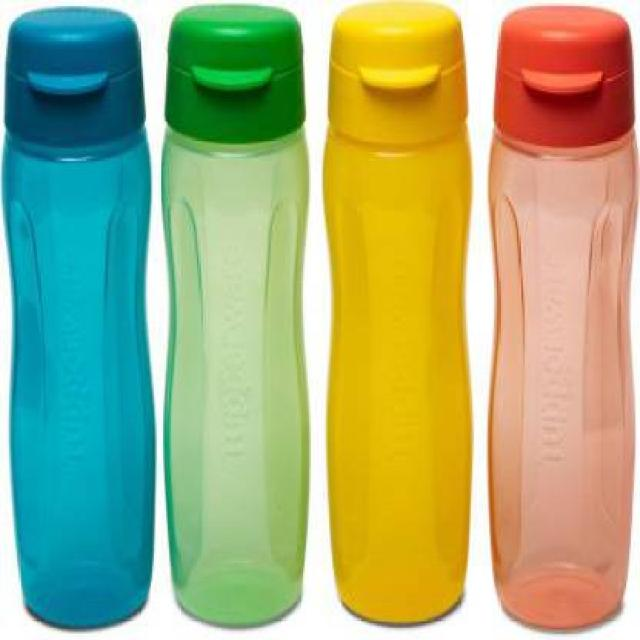Drinking: (154, 10, 312, 630), (491, 1, 640, 632), (326, 12, 477, 630), (5, 6, 146, 636)
